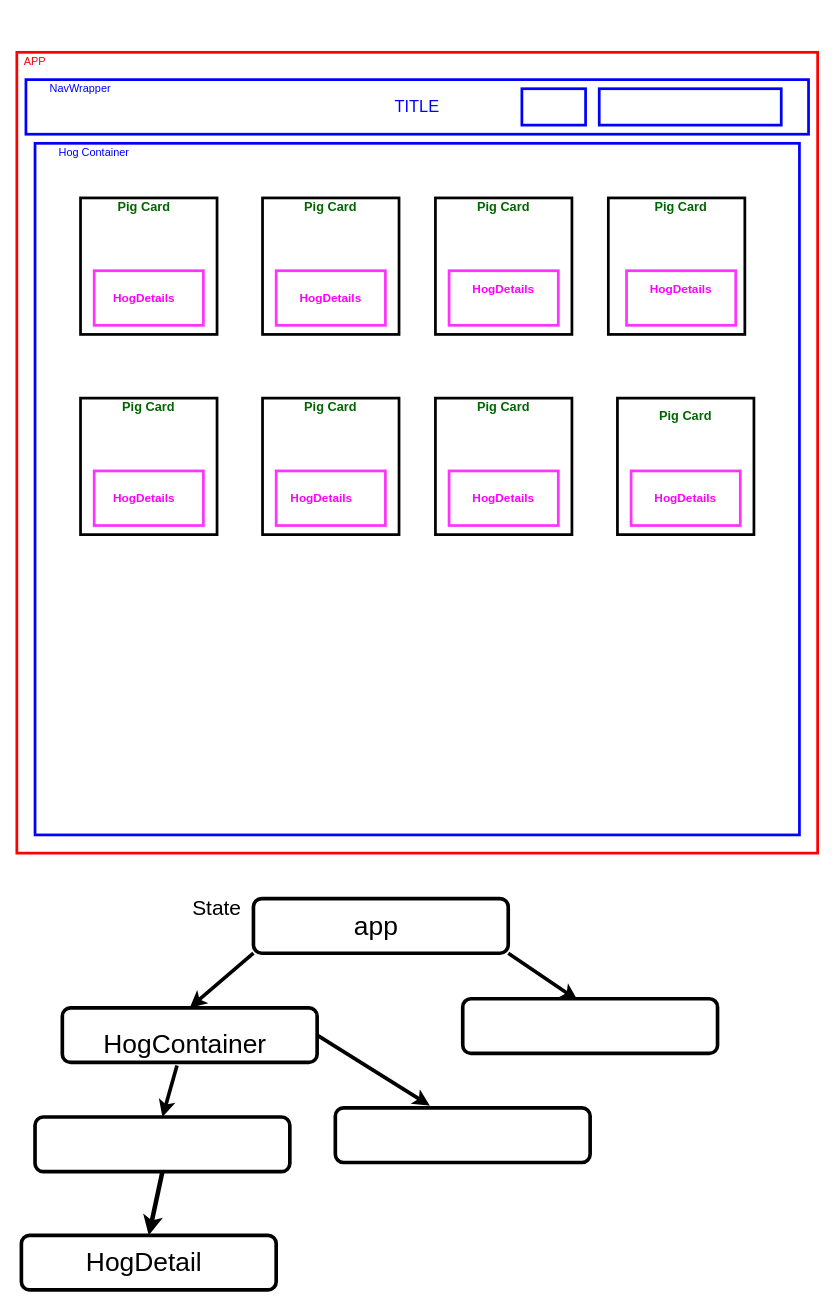
The diagram is 834 pixels wide and 1307 high, and some of its shapes have lost their labels. The shapes that lost their labels are listed below. From the top down, each one's centre as x and y in pixels, then its label:
point (553, 106): Sort
point (689, 106): Filter Select
point (589, 1025): Nav
point (162, 1144): HogTile
point (462, 1135): Form
